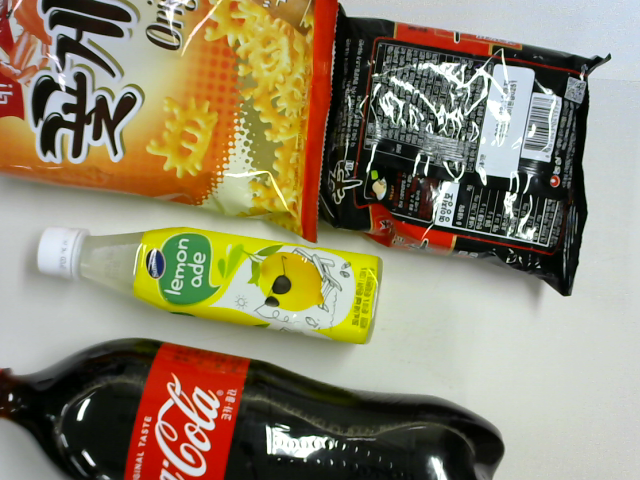Coca_Cola_1.5L: (1, 337, 506, 480)
Crabrang: (1, 4, 340, 243)
Sinramen_Black: (317, 9, 612, 297)
Sunkist_Lemonaid_Pet: (35, 227, 382, 346)
